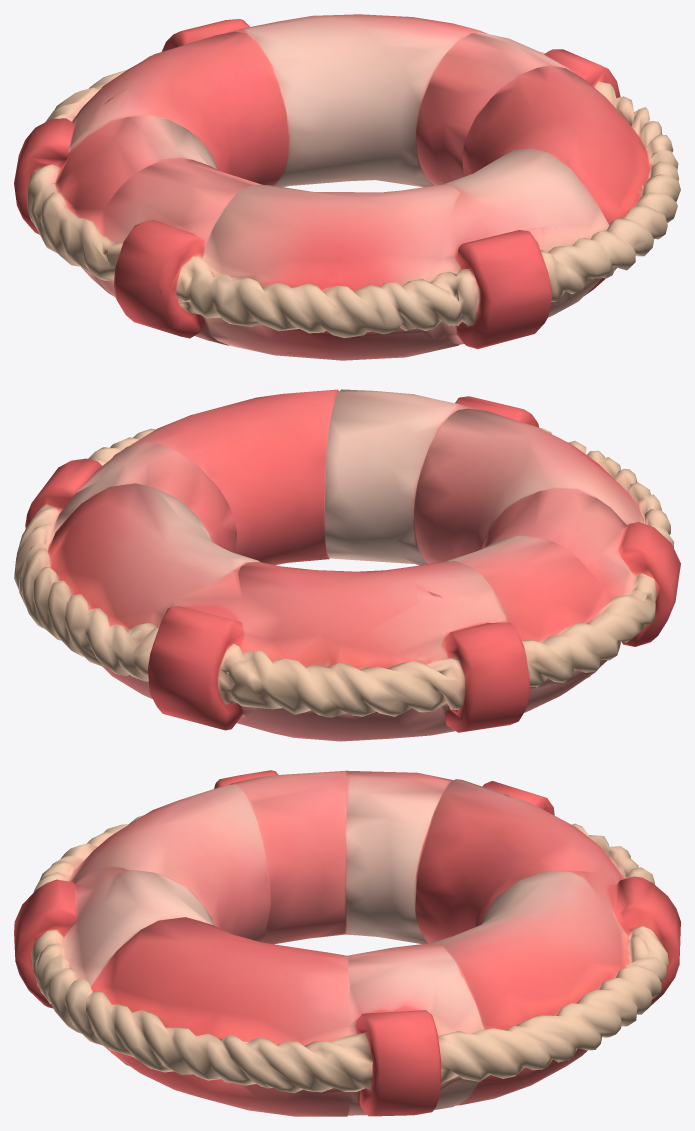
File: lifering.glb
The picture shows the model from 3 angles, top to bottom: view 1: azimuth 30°, elevation 25°; view 2: azimuth 150°, elevation 25°; view 3: azimuth 270°, elevation 25°; orthographic projection.
Parts seen in each view (by area): view 1: lifering; view 2: lifering; view 3: lifering.
Boxes of the visible parts, bbox=[...] form: lifering: bbox=[14, 14, 680, 360]; lifering: bbox=[14, 389, 680, 741]; lifering: bbox=[14, 770, 680, 1116].
Bounding box in the file's own units: 2.2 × 0.5754 × 2.22.
Materials: 1 (1 with a texture image).
